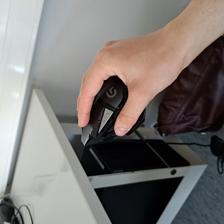mouse: (79, 75, 146, 147)
